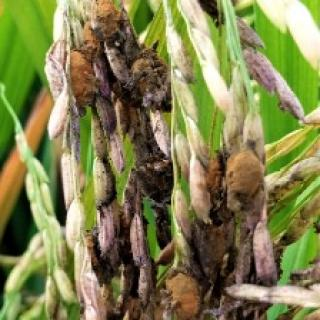Gosong-Palsu: (70, 21, 104, 113), (227, 149, 263, 210), (167, 271, 200, 319), (71, 51, 93, 107)
